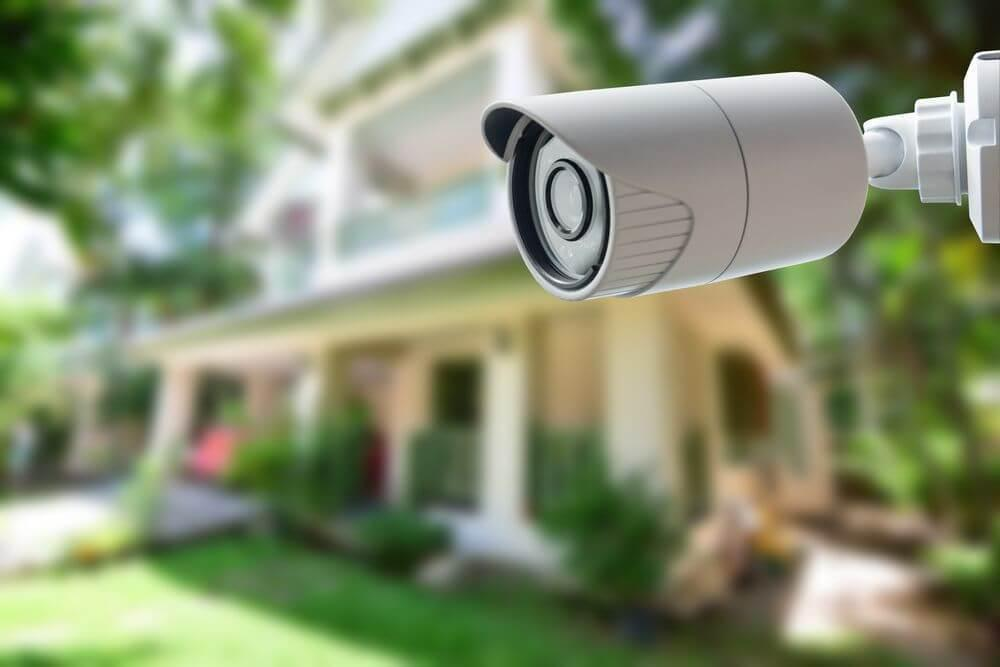camera: (420, 13, 902, 323)
